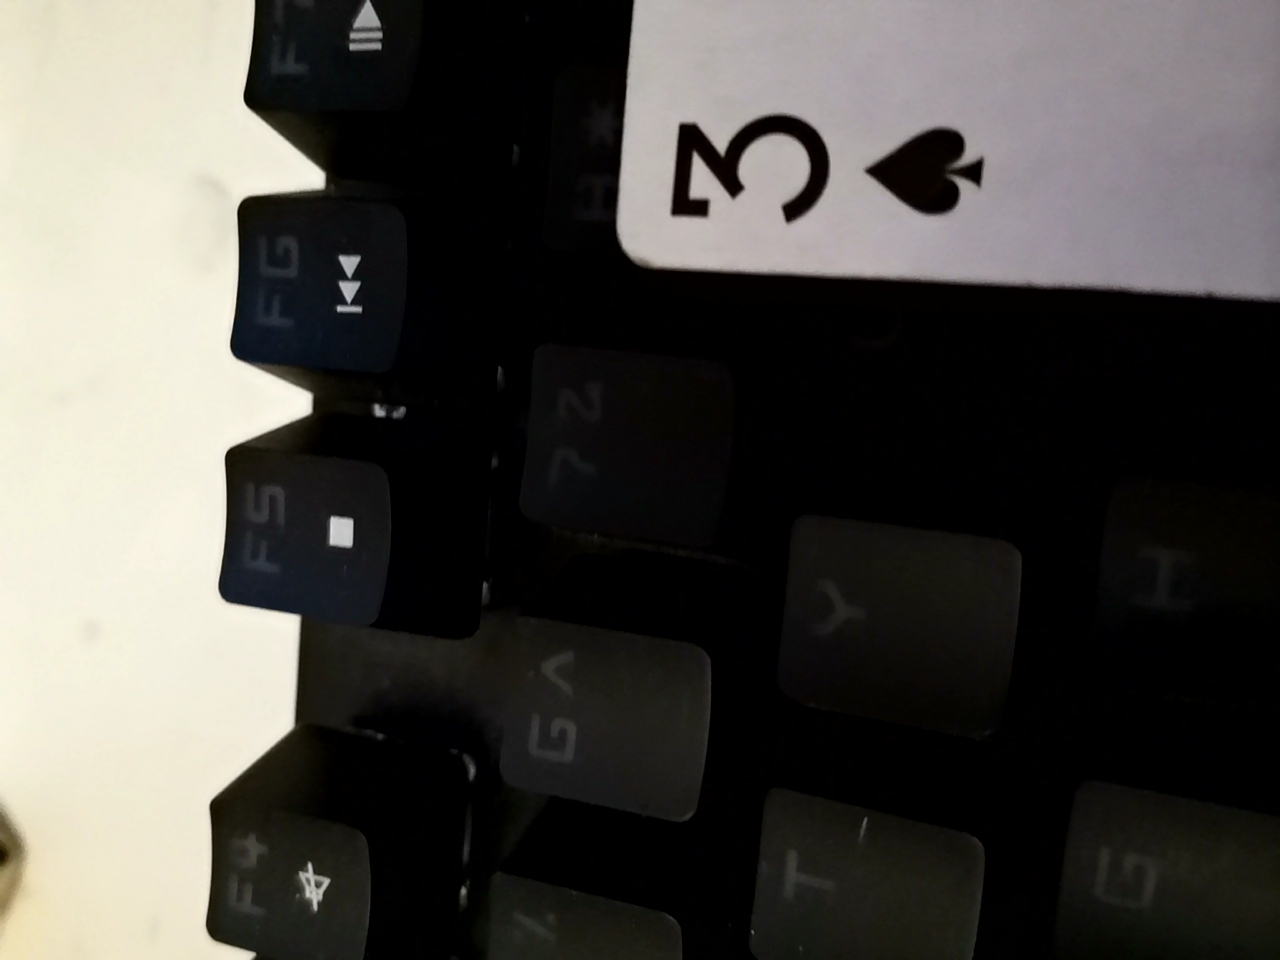ht 3: (555, 5, 1280, 369)
